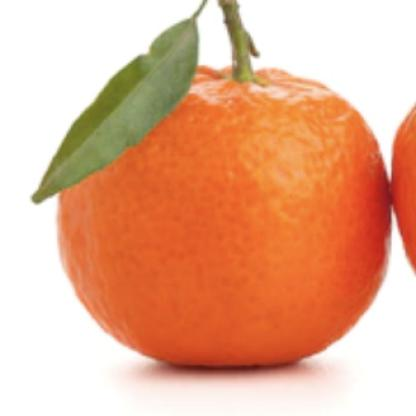fresh: (59, 51, 389, 366)
